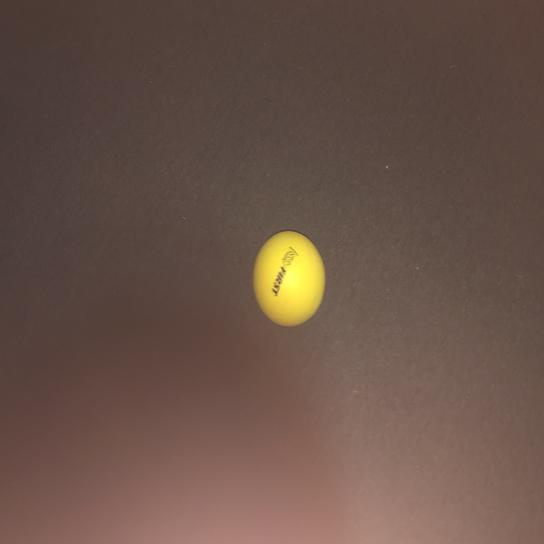ball: (246, 223, 331, 329)
